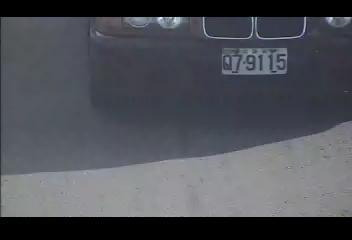plate: (219, 46, 289, 76)
